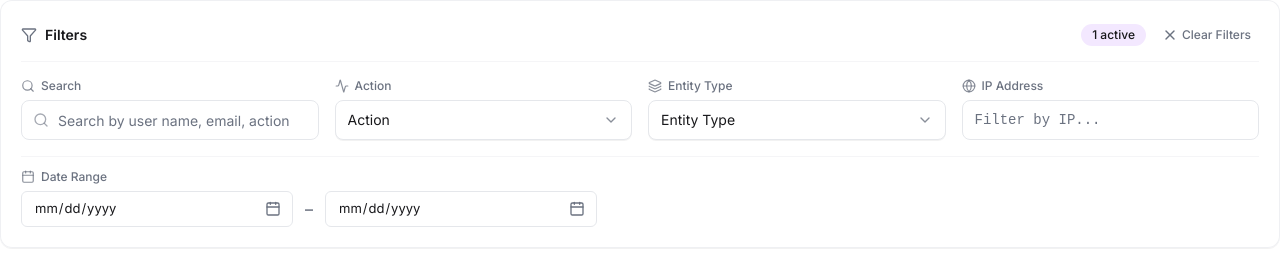
Scenario: AuditLogFilters with the real query state › still counts a drill-down user filter and drops it on Clear Filters
The image size is (1280, 266).
Check: the element with test id "active-filters-count" shows "1", box [1092,27,1135,42]
Click the button with test id "btn-clear-filters" at (1206, 35), box [1154,21,1259,49]
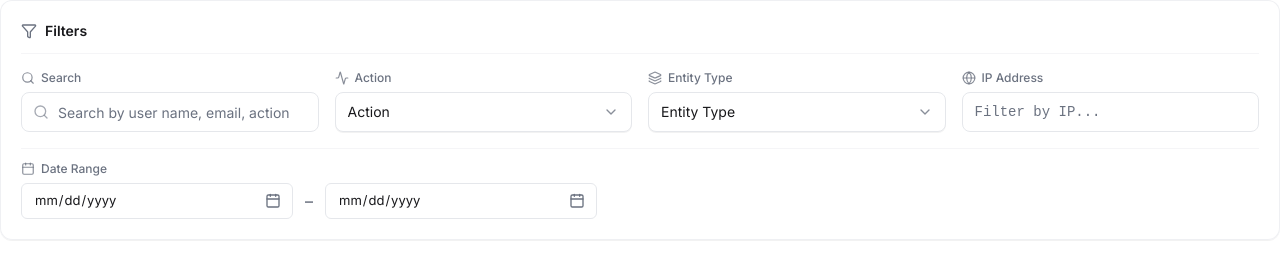
Check: the element with test id "active-filters-count" is gone
